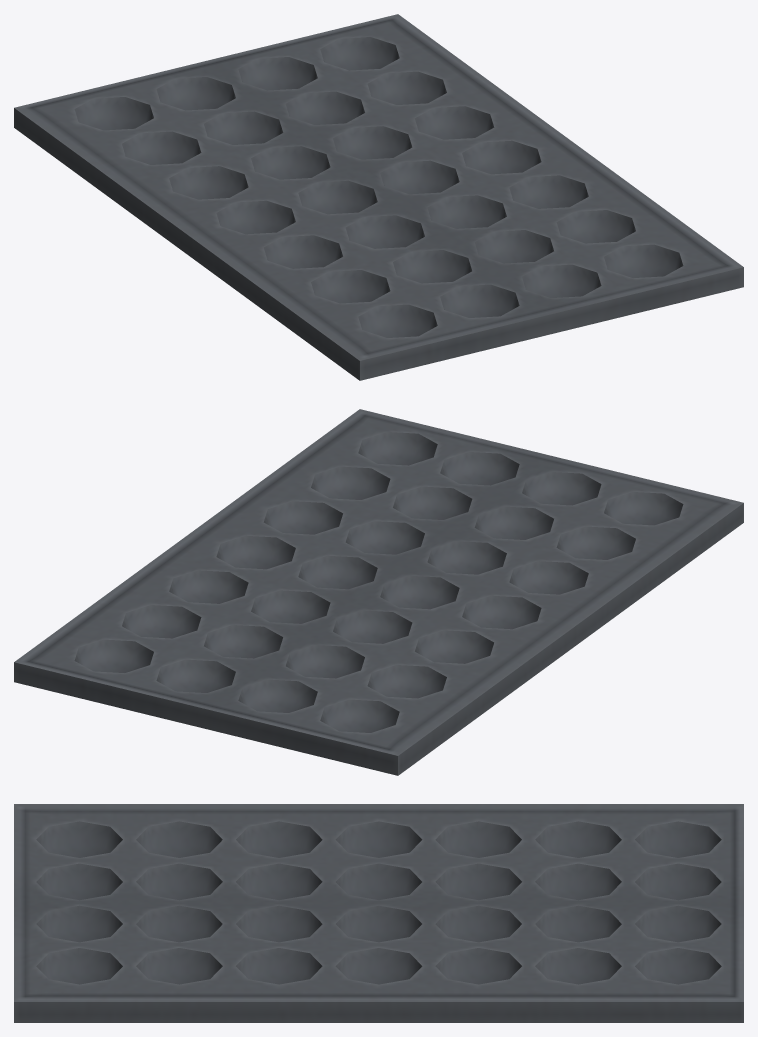
The model's file is jsf_IronPlate_Takoyaki_01.fbx.
3 views of the same model, one above another, from view 1: azimuth 30°, elevation 25°; view 2: azimuth 150°, elevation 25°; view 3: azimuth 270°, elevation 25° (orthographic). The views are drawn at different scales.
Parts seen in each view (by area): view 1: jsf_IronPlate_Takoyaki_01; view 2: jsf_IronPlate_Takoyaki_01; view 3: jsf_IronPlate_Takoyaki_01.
Boxes of the visible parts, x1=… form: jsf_IronPlate_Takoyaki_01: x1=14, y1=14, x2=743, y2=380; jsf_IronPlate_Takoyaki_01: x1=14, y1=409, x2=743, y2=775; jsf_IronPlate_Takoyaki_01: x1=14, y1=804, x2=743, y2=1022.
Size of the model in its own units: 22.38 by 2.15 by 34.9.
